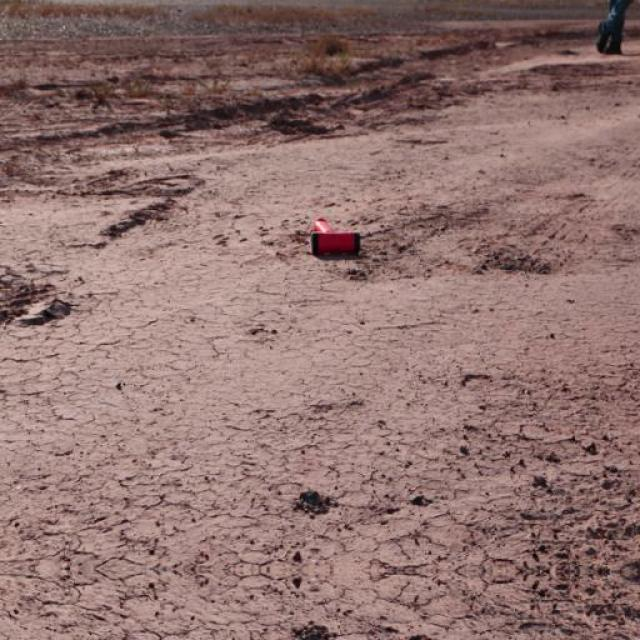mallet: (310, 216, 362, 256)
